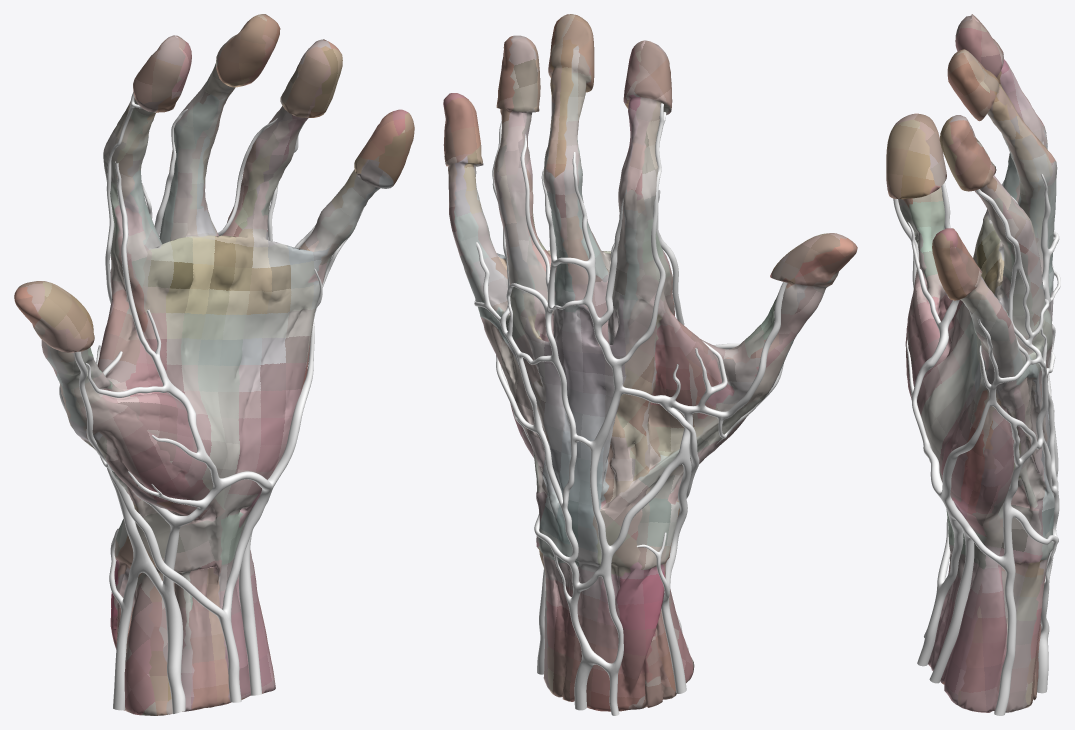
File: 手_20260324182218_opt.glb
3 views of the same model, side by side, from view 1: azimuth 30°, elevation 25°; view 2: azimuth 150°, elevation 25°; view 3: azimuth 270°, elevation 25° (orthographic). The views are drawn at different scales.
Parts seen in each view (by area): view 1: attribwrangle4, Plane; view 2: attribwrangle4, Plane; view 3: attribwrangle4, Plane.
Boxes of the visible parts, x1=… form: attribwrangle4: x1=14, y1=14, x2=414, y2=715; Plane: x1=59, y1=92, x2=364, y2=713; attribwrangle4: x1=443, y1=14, x2=857, y2=711; Plane: x1=474, y1=103, x2=787, y2=715; attribwrangle4: x1=886, y1=14, x2=1057, y2=712; Plane: x1=893, y1=141, x2=1060, y2=715.
Size of the model in its own units: 0.2521 by 0.401 by 0.0957.
Materials: 2 (1 with a texture image).
